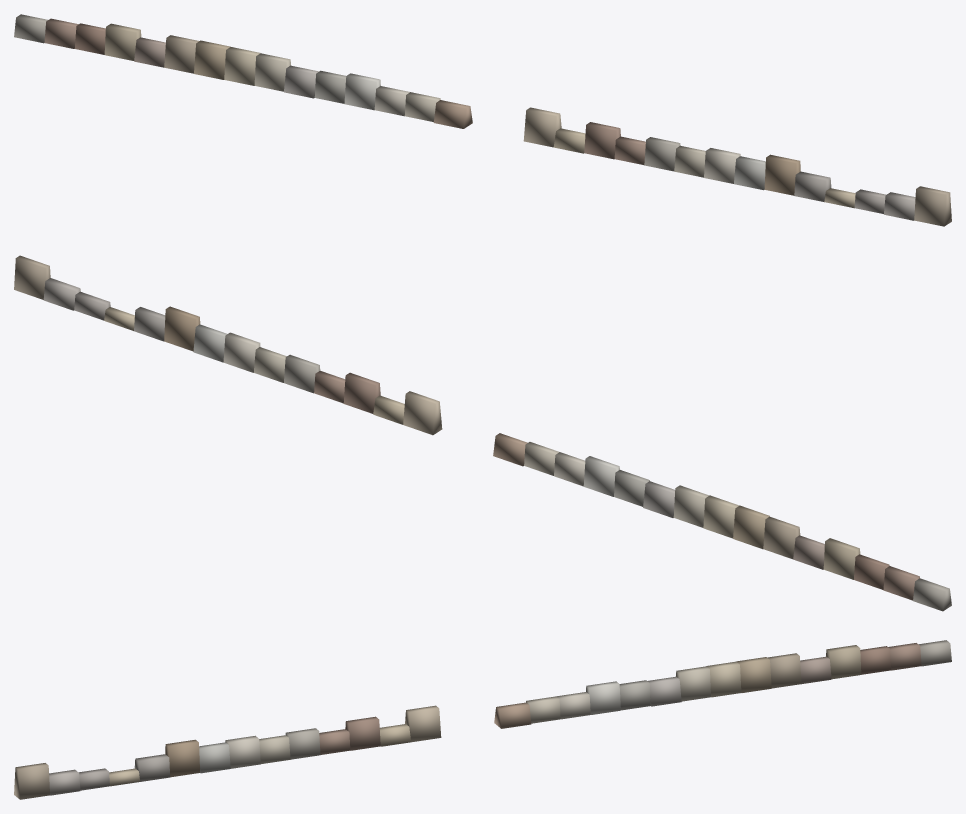
Rendered from farm_2_4_collision.glb.
3 views of the same model, one above another, from view 1: azimuth 30°, elevation 25°; view 2: azimuth 210°, elevation 25°; view 3: azimuth 270°, elevation 25° (orthographic). The views are drawn at different scales.
Parts seen in each view (by area): view 1: geometry_0; view 2: geometry_0; view 3: geometry_0.
Part boxes in pixels (x1,y1,x2,y2): geometry_0: [14, 14, 951, 226]; geometry_0: [14, 255, 951, 611]; geometry_0: [14, 640, 951, 799].
Bounding box in the file's own units: 22.8 × 4.69 × 43.95.
